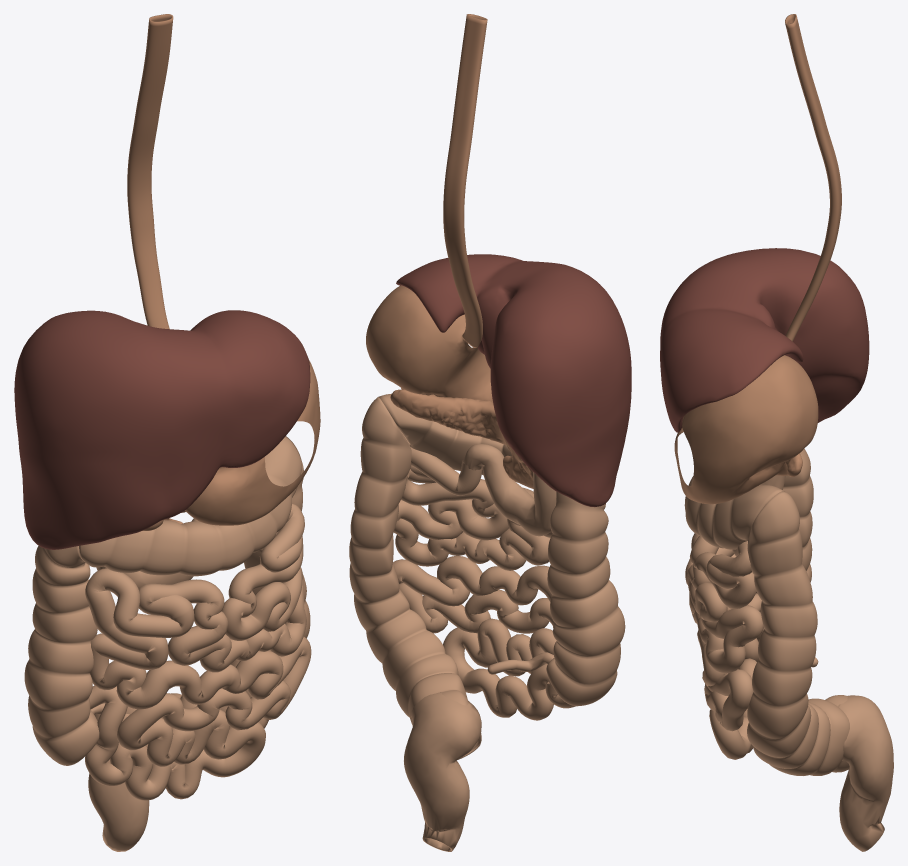
Rendered from digestive-system.glb.
3 renders of one model, left to right at view 1: azimuth 30°, elevation 25°; view 2: azimuth 150°, elevation 25°; view 3: azimuth 270°, elevation 25°, orthographic. The views are drawn at different scales.
Parts seen in each view (by area): view 1: liver, real-small-intestine-jejunum, real-large-intestine-ascending-colon, real-large-intestine-transverse-colon, esophagus, stomach, real-large-intestine-sigmoid-colon, real-large-intestine-descending-colon, real-small-intestine-duodenum; view 2: liver, real-small-intestine-jejunum, real-large-intestine-descending-colon, real-large-intestine-ascending-colon, stomach, real-large-intestine-sigmoid-colon, esophagus, pancreas, real-small-intestine-duodenum, real-large-intestine-transverse-colon, real-large-intestine-vermiform-appendix; view 3: liver, real-large-intestine-descending-colon, stomach, real-small-intestine-jejunum, real-large-intestine-sigmoid-colon, esophagus, real-large-intestine-transverse-colon, real-large-intestine-ascending-colon.
Boxes of the visible parts, left/top/right/bottom form: liver: left=14, top=310, right=310, bottom=549; real-small-intestine-jejunum: left=85, top=504, right=311, bottom=800; real-large-intestine-ascending-colon: left=24, top=545, right=99, bottom=765; real-large-intestine-transverse-colon: left=79, top=436, right=301, bottom=576; esophagus: left=127, top=14, right=173, bottom=329; stomach: left=185, top=360, right=320, bottom=525; real-large-intestine-sigmoid-colon: left=88, top=714, right=149, bottom=851; real-large-intestine-descending-colon: left=126, top=442, right=310, bottom=746; real-small-intestine-duodenum: left=96, top=518, right=198, bottom=588; liver: left=396, top=254, right=631, bottom=507; real-small-intestine-jejunum: left=393, top=447, right=576, bottom=720; real-large-intestine-descending-colon: left=349, top=397, right=481, bottom=759; real-large-intestine-ascending-colon: left=546, top=491, right=625, bottom=706; stomach: left=366, top=285, right=492, bottom=402; real-large-intestine-sigmoid-colon: left=404, top=692, right=481, bottom=851; esophagus: left=443, top=14, right=487, bottom=347; pancreas: left=390, top=389, right=533, bottom=488; real-small-intestine-duodenum: left=463, top=444, right=556, bottom=536; real-large-intestine-transverse-colon: left=378, top=393, right=517, bottom=482; real-large-intestine-vermiform-appendix: left=487, top=652, right=554, bottom=674; liver: left=660, top=248, right=869, bottom=432; real-large-intestine-descending-colon: left=747, top=491, right=849, bottom=775; stomach: left=674, top=355, right=818, bottom=504; real-small-intestine-jejunum: left=685, top=533, right=763, bottom=759; real-large-intestine-sigmoid-colon: left=838, top=695, right=893, bottom=851; esophagus: left=785, top=14, right=841, bottom=341; real-large-intestine-transverse-colon: left=684, top=476, right=783, bottom=549; real-large-intestine-ascending-colon: left=756, top=448, right=813, bottom=642.
Size of the model in its own units: 0.229 by 0.6718 by 0.1712.
